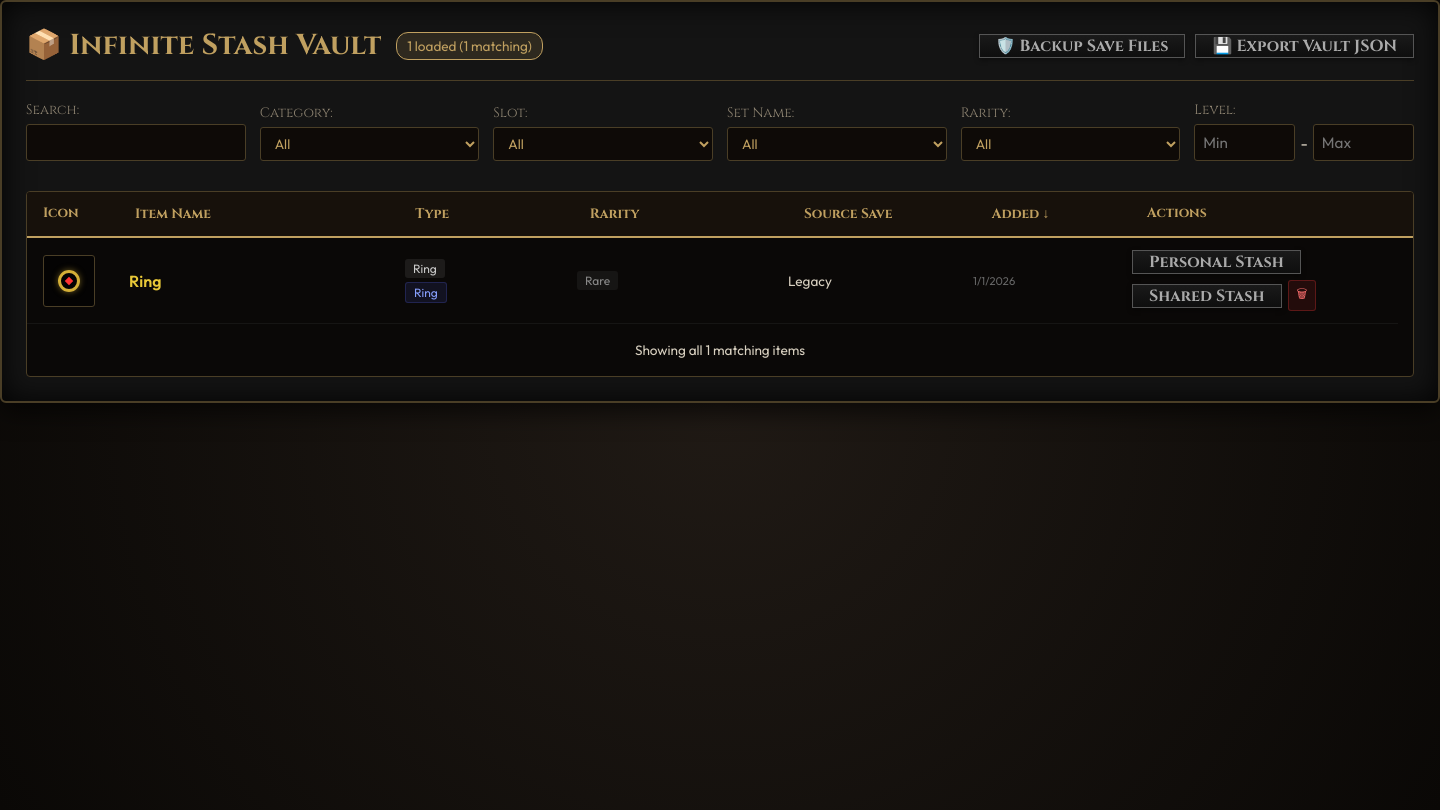
Test: Infinite Stash sorting › renders canonical rehydrated stat wording through the Infinite Stash tooltip path
The image size is (1440, 810).
Hover over the element with class "stash-item-row".
mouse_move(712, 281)  # box 27,238 -> 1398,324
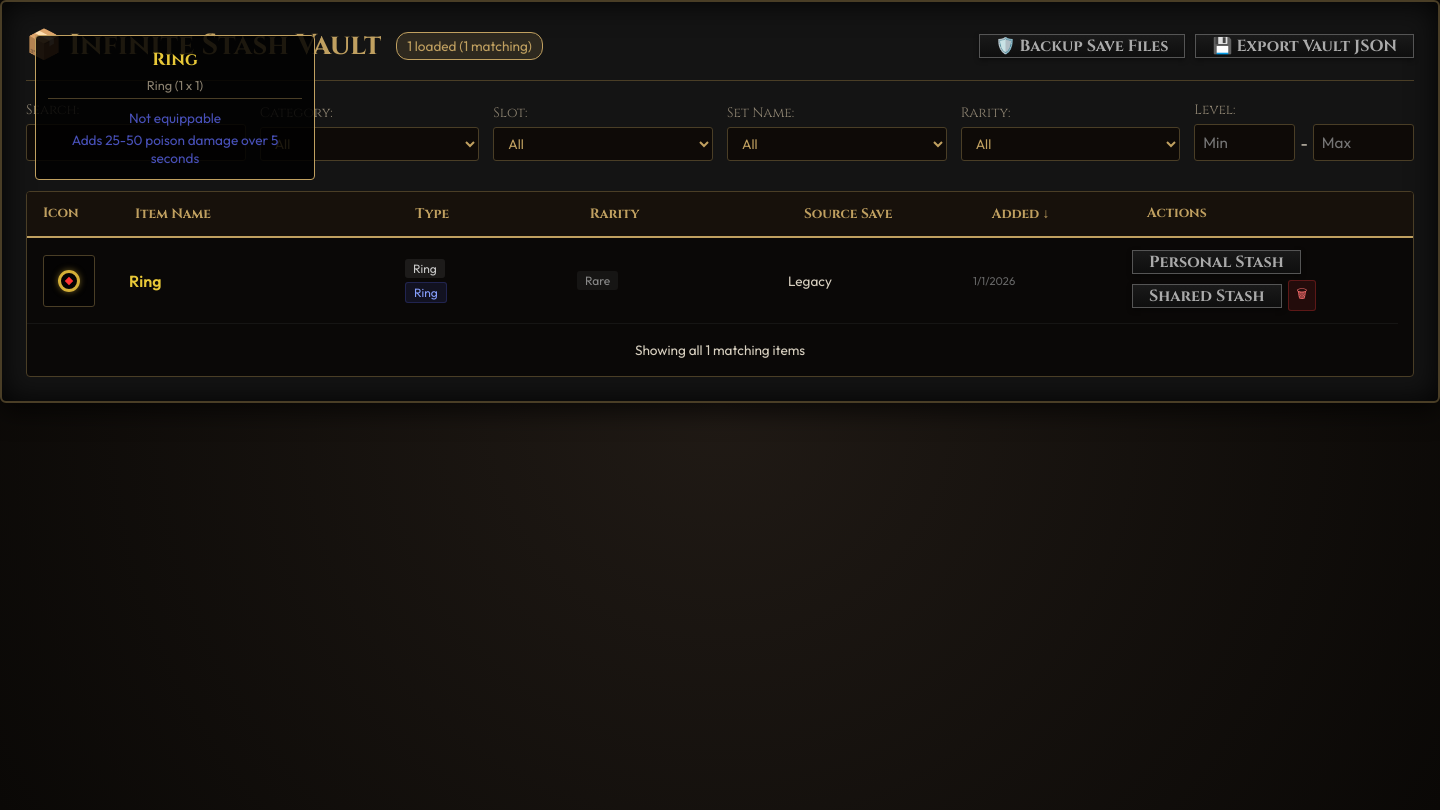
Expected: the text "Adds 25-50 poison damage over 5 seconds" is shown, 72,131 -> 278,167
